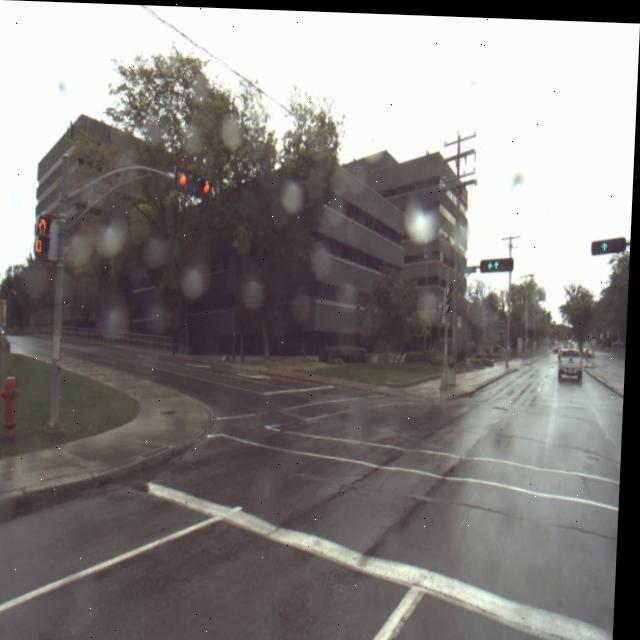car: (176, 167, 214, 195), (560, 343, 587, 381), (35, 211, 54, 261)
trafficLight-Green: (483, 253, 506, 272), (597, 232, 617, 250)
trafficLight-Red: (446, 282, 455, 320), (437, 297, 445, 321)
